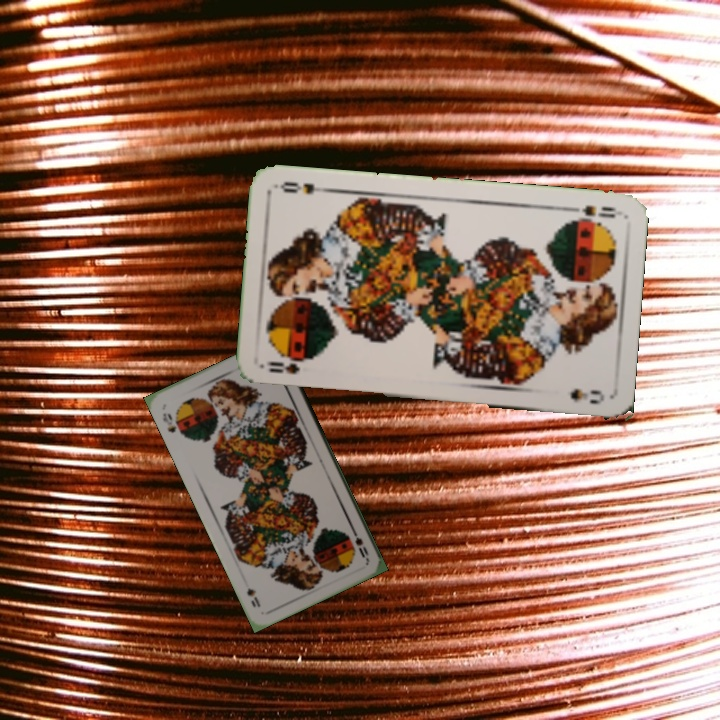SO: (563, 201, 619, 223), (347, 523, 371, 562), (158, 409, 187, 439), (264, 357, 302, 376)
